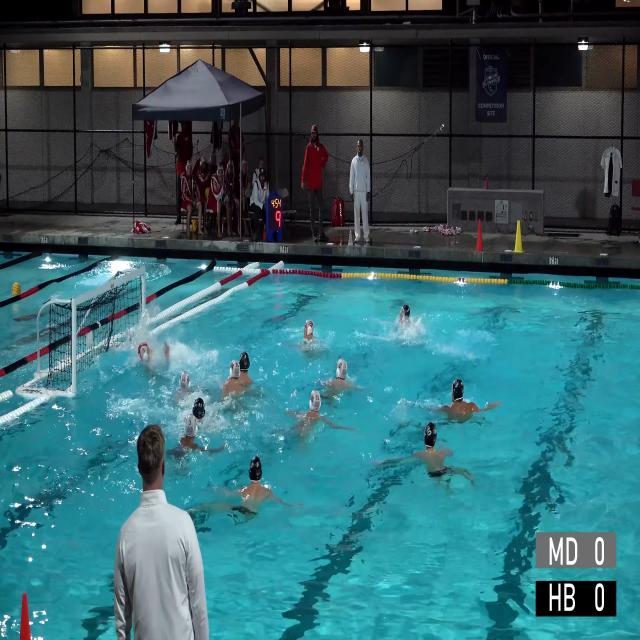ball: (12, 282, 21, 296), (192, 219, 198, 233), (205, 187, 210, 199)
